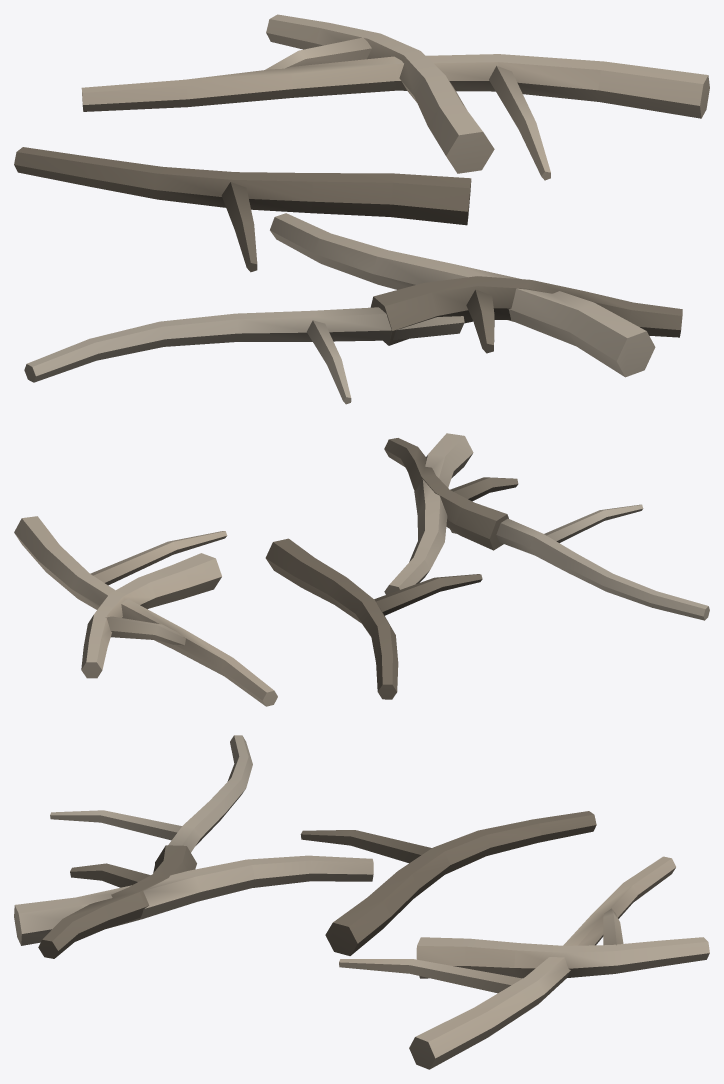
The model's file is shore_gc_twigs_b.glb.
The picture shows the model from 3 angles, top to bottom: view 1: azimuth 30°, elevation 25°; view 2: azimuth 150°, elevation 25°; view 3: azimuth 270°, elevation 25°; orthographic projection. The views are drawn at different scales.
Visible parts, largest first — view 1: shore_gc_twigs_b; view 2: shore_gc_twigs_b; view 3: shore_gc_twigs_b.
Part boxes in pixels (left/top/right/bottom): shore_gc_twigs_b: left=14, top=14, right=709, bottom=404; shore_gc_twigs_b: left=14, top=433, right=709, bottom=706; shore_gc_twigs_b: left=14, top=735, right=709, bottom=1069.
Size of the model in its own units: 3.99 by 0.2284 by 3.69.
